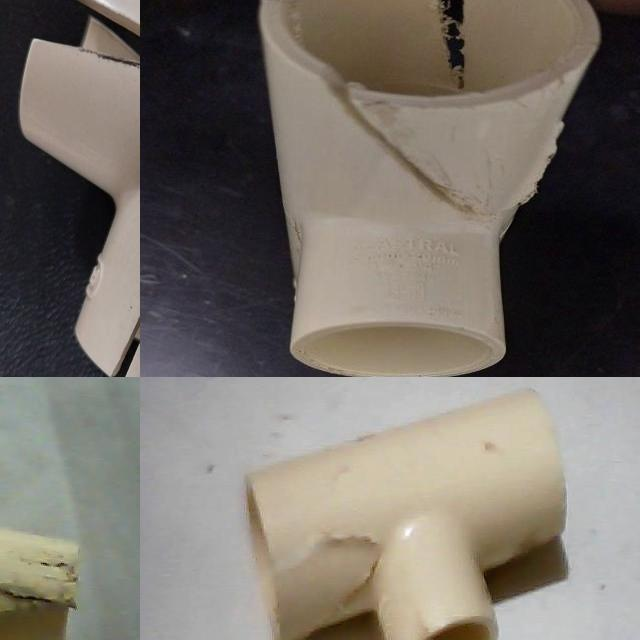Defective: (326, 66, 478, 236), (262, 515, 376, 634), (425, 0, 512, 97), (0, 570, 68, 640), (55, 545, 89, 608), (259, 0, 330, 18)
T Joint: (247, 390, 566, 640), (0, 80, 140, 377), (0, 527, 80, 640)
